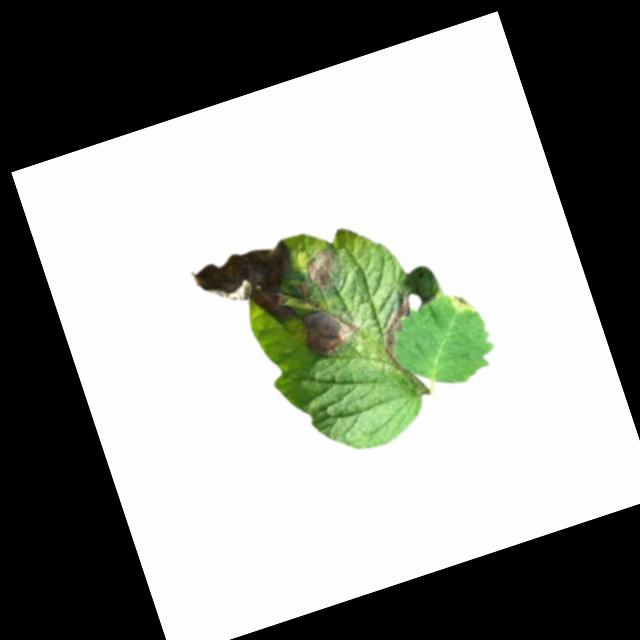Late_blight: (188, 234, 309, 346), (373, 297, 430, 375), (296, 296, 362, 361), (301, 242, 349, 295), (447, 289, 477, 317)
